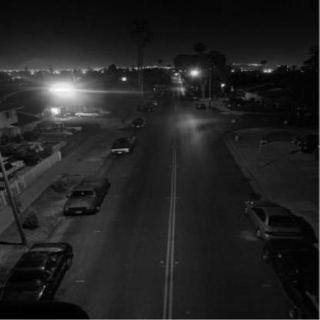other: (29, 65, 89, 111), (181, 65, 207, 81)
